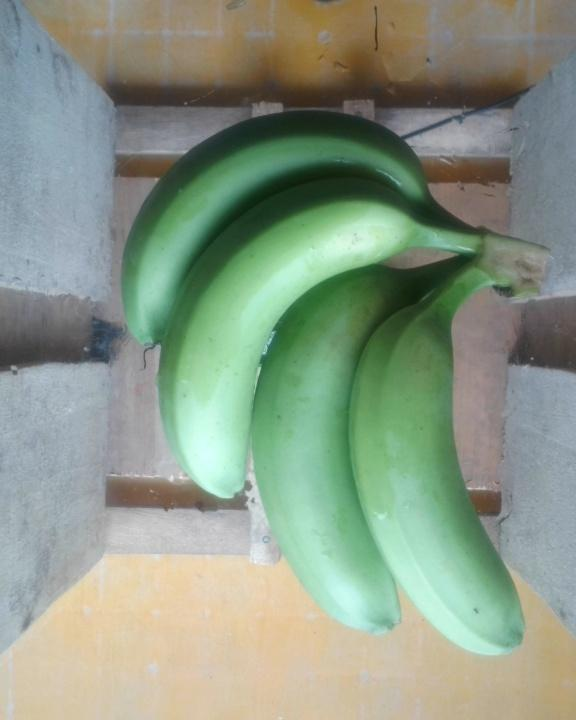SPOT: (106, 101, 558, 668)
